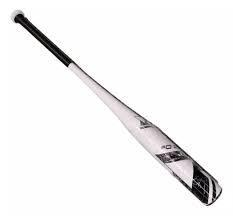Baseball-Bat: (13, 12, 222, 204)
